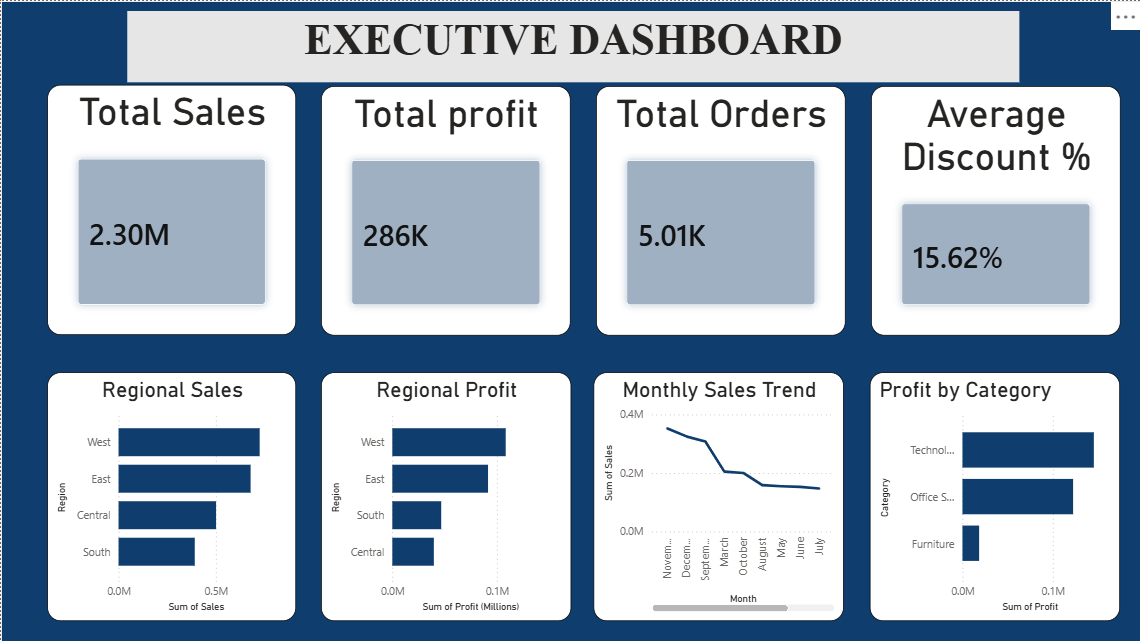

The page's visual inventory and layout, read from the dashboard file:
{"tool":"powerbi","page":{"name":"Executive Dashboard","canvas":[1280,720],"ordinal":0},"visuals":[{"type":"shape","box":[0,0,1280,720],"z":0},{"type":"cardVisual","title":"Total Sales","fields":{"Data":["Sum(superstore_data.Sales)"]},"box":[51.3,94.1,279.4,280.8],"z":1000},{"type":"cardVisual","title":"Total profit","fields":{"Data":["Sum(superstore_data.Profit)"]},"box":[359.1,96,280,280],"z":2000},{"type":"cardVisual","title":"Average Discount %","fields":{"Data":["Avg(superstore_data.Discount)"]},"box":[976,96,280,280],"z":3000},{"type":"cardVisual","title":"Total Orders","fields":{"Data":["superstore_data.Order Counts"]},"box":[667.6,96,280,280],"z":4000},{"type":"clusteredBarChart","title":"Regional Sales","fields":{"Category":["superstore_data.Region"],"Y":["Sum(superstore_data.Sales)"]},"box":[51.3,416.2,279.4,279.4],"z":5000},{"type":"clusteredBarChart","title":"Regional Profit","fields":{"Y":["Sum(superstore_data.Profit)"],"Category":["superstore_data.Region"]},"box":[359.2,416.2,280.8,279.4],"z":6000},{"type":"lineChart","title":"Monthly Sales Trend","fields":{"Category":["superstore_data.Month"],"Y":["Sum(superstore_data.Sales)"]},"box":[664.2,416.2,280.8,279.4],"z":7000},{"type":"clusteredBarChart","title":" Profit by Category","fields":{"Category":["superstore_data.Category"],"Y":["Sum(superstore_data.Profit)"]},"box":[975,416.2,280.8,279.4],"z":8000},{"type":"textbox","box":[141.1,11.4,1000.6,79.8],"z":9000}]}

Visuals, with their boxes in screenshot pixels (x1, y1, x2, y2), scaled from the page's 1280x720 canvas onto the 1140x641 screenshot:
shape: 0:0:1139:640
"Total Sales" cardVisual: 46:84:295:334
"Total profit" cardVisual: 320:85:569:335
"Average Discount %" cardVisual: 869:85:1119:335
"Total Orders" cardVisual: 595:85:844:335
"Regional Sales" clusteredBarChart: 46:371:295:619
"Regional Profit" clusteredBarChart: 320:371:570:619
"Monthly Sales Trend" lineChart: 592:371:842:619
" Profit by Category" clusteredBarChart: 868:371:1118:619
textbox: 126:10:1017:81
